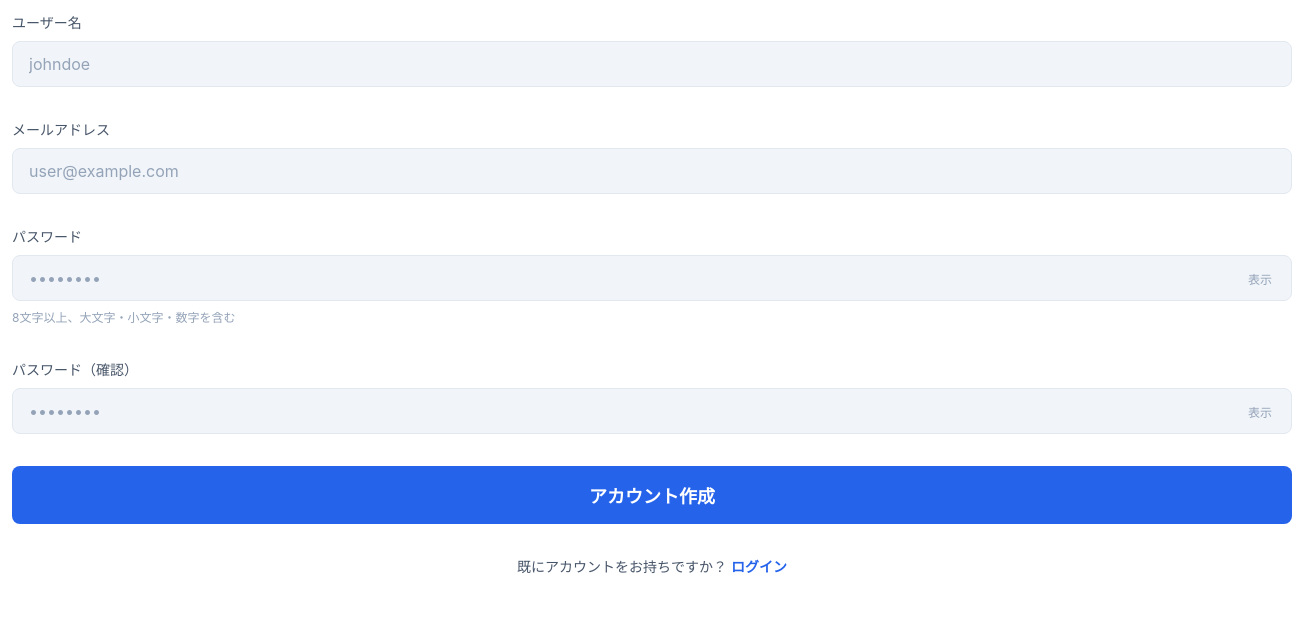
Test: RegistrationForm › パスワード不一致を検出
Type "newuser" into the field labelled "ユーザー名" at (652, 64), box [12,41,1292,87]
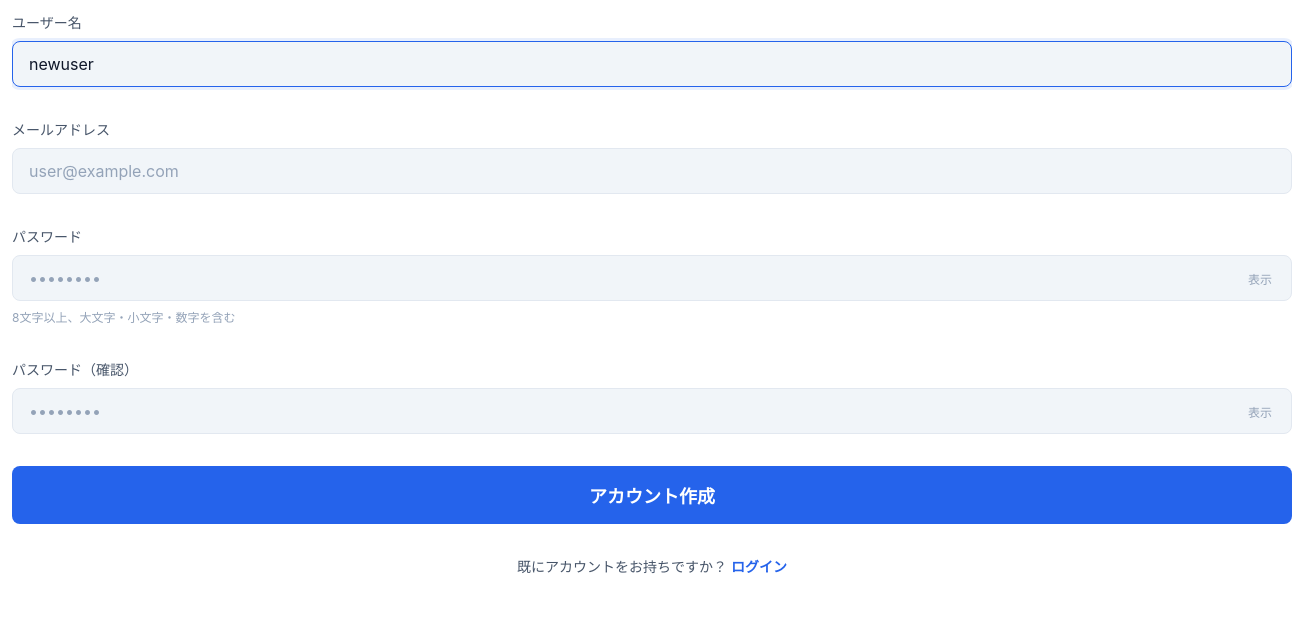
Type "new@example.com" into the field labelled "メールアドレス" at (652, 171), box [12,148,1292,194]
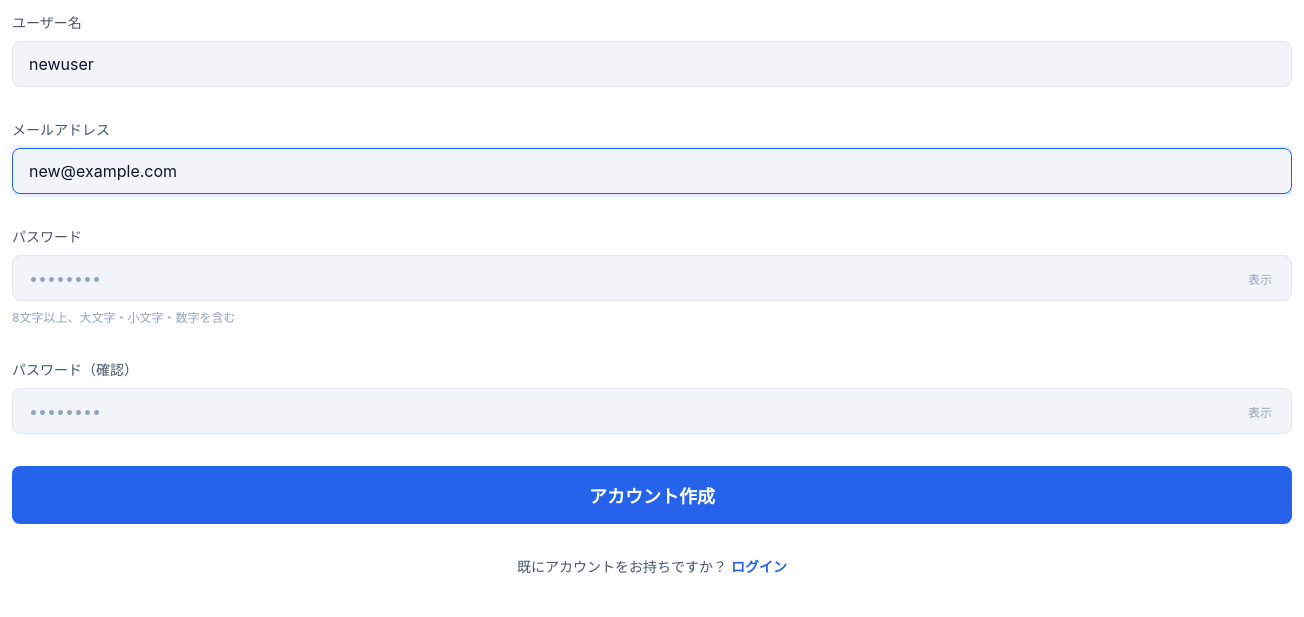
Type "Password1" into the password field labelled "パスワード" at (652, 278), box [12,255,1292,301]
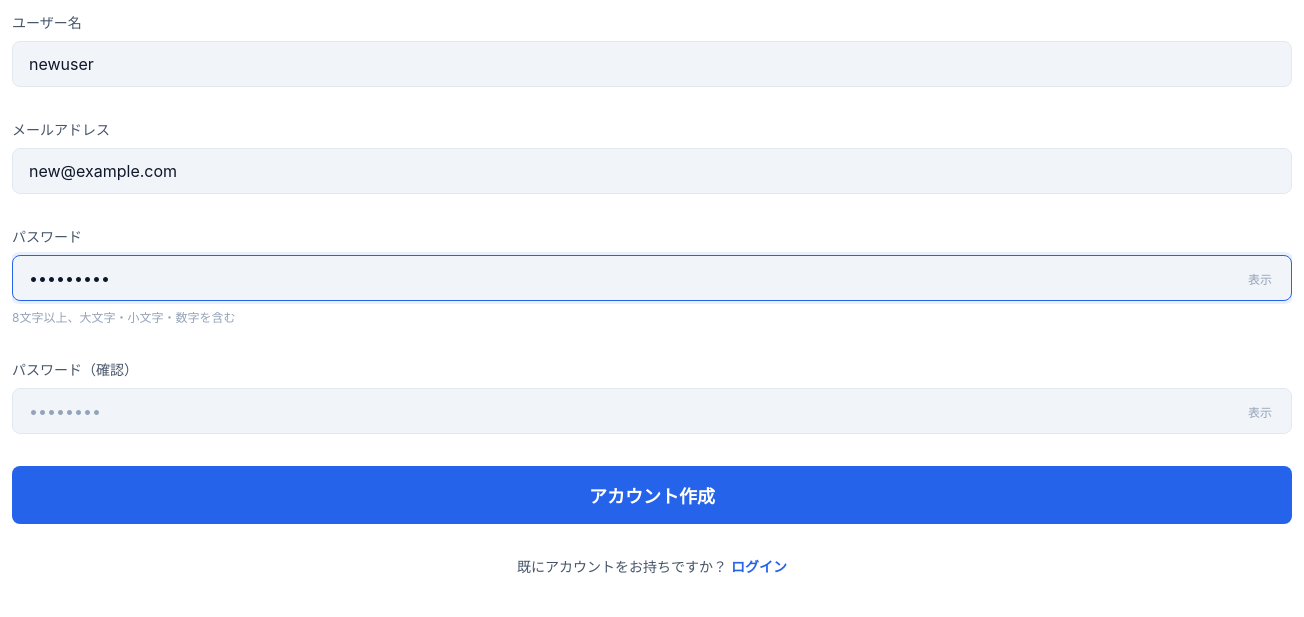
Type "Other1234" into the password field labelled "パスワード（確認）" at (652, 411), box [12,388,1292,434]
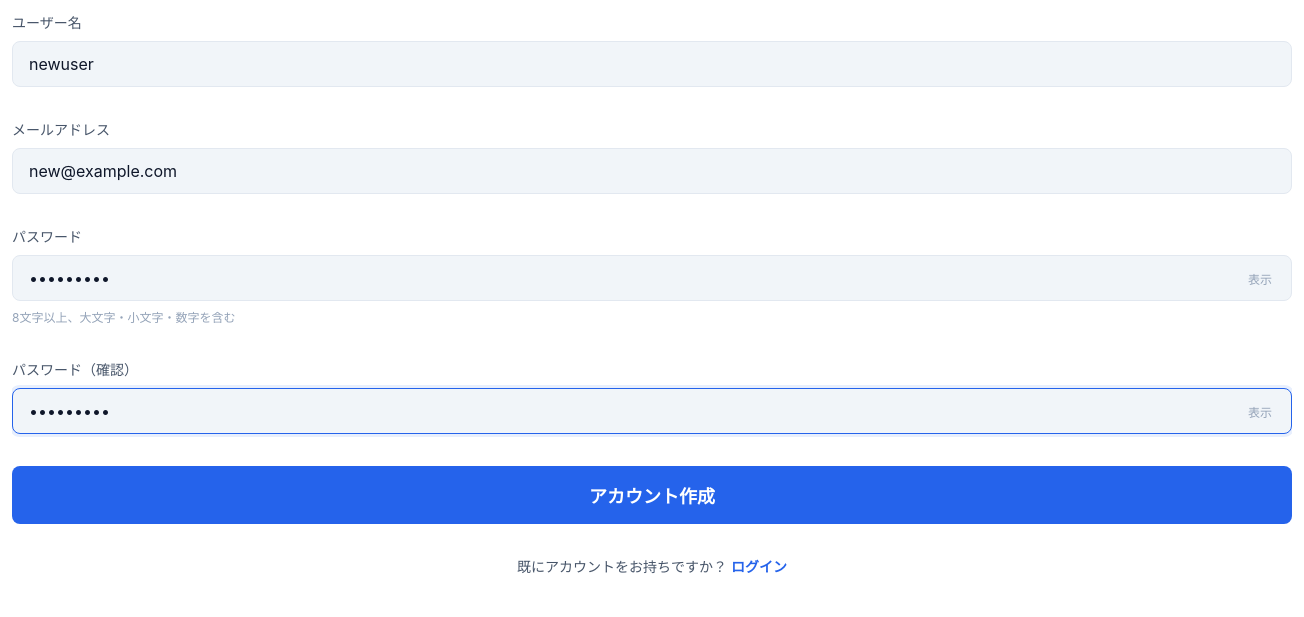
Click the button "アカウント作成" at (652, 495), box [12,466,1292,524]
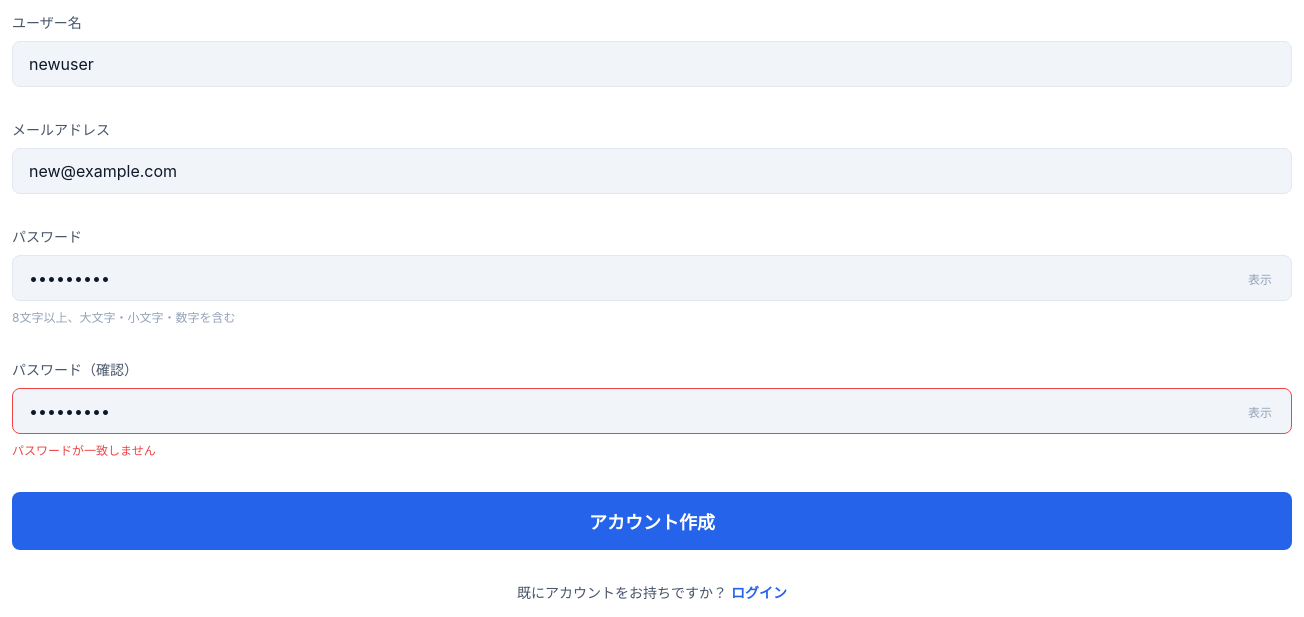
Now the text "パスワードが一致しません" is shown, box [12,443,156,458]
